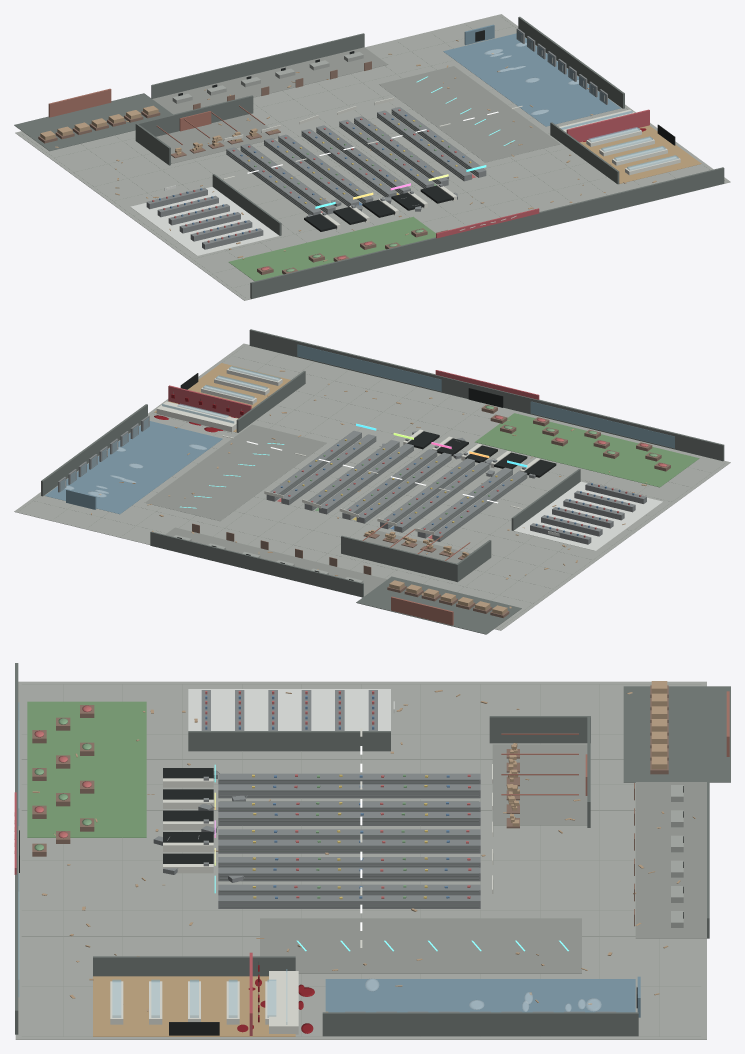
Rendered from level_02_preco_baixo_walmart.glb.
The picture shows the model from 3 angles, top to bottom: view 1: azimuth 30°, elevation 25°; view 2: azimuth 150°, elevation 25°; view 3: azimuth 270°, elevation 25°; orthographic projection. The views are drawn at different scales.
Parts seen in each view (by area): view 1: expanded_market_floor, front_storefront_frame, wide_empty_service_lane_to_freezers, freezer_department_floor_bluecast, produce_department_green_floor, employee_office_corridor_floor, rear_loading_dock_floor, employee_office_back_wall, west_pharmacy_floor, almoxarifado_stockroom_floor, east_bakery_floor, freezer_back_wall (+23 smaller); view 2: expanded_market_floor, wide_empty_service_lane_to_freezers, front_storefront_frame, freezer_department_floor_bluecast, produce_department_green_floor, employee_office_back_wall, west_pharmacy_floor, rear_loading_dock_floor, stockroom_back_wall, employee_office_corridor_floor, front_store_glass_left, front_store_glass_right (+25 smaller); view 3: expanded_market_floor, wide_empty_service_lane_to_freezers, produce_department_green_floor, freezer_department_floor_bluecast, employee_office_corridor_floor, rear_loading_dock_floor, freezer_back_wall, east_bakery_floor, almoxarifado_stockroom_floor, west_pharmacy_floor, west_pharmacy_partition, east_bakery_partition (+21 smaller).
Part boxes in pixels (left/top/right/bottom): expanded_market_floor: left=15, top=14, right=730, bottom=300; front_storefront_frame: left=250, top=167, right=724, bottom=298; wide_empty_service_lane_to_freezers: left=379, top=66, right=560, bottom=162; freezer_department_floor_bluecast: left=443, top=33, right=620, bottom=126; produce_department_green_floor: left=228, top=216, right=435, bottom=281; employee_office_corridor_floor: left=152, top=47, right=388, bottom=114; rear_loading_dock_floor: left=14, top=93, right=172, bottom=151; employee_office_back_wall: left=151, top=33, right=364, bottom=98; west_pharmacy_floor: left=130, top=186, right=279, bottom=255; almoxarifado_stockroom_floor: left=156, top=114, right=279, bottom=163; east_bakery_floor: left=580, top=125, right=701, bottom=183; freezer_back_wall: left=518, top=16, right=624, bottom=108; expanded_market_floor: left=14, top=343, right=730, bottom=630; wide_empty_service_lane_to_freezers: left=145, top=424, right=326, bottom=521; front_storefront_frame: left=249, top=329, right=724, bottom=461; freezer_department_floor_bluecast: left=45, top=421, right=222, bottom=514; produce_department_green_floor: left=475, top=413, right=699, bottom=487; employee_office_back_wall: left=150, top=531, right=363, bottom=597; west_pharmacy_floor: left=514, top=481, right=662, bottom=550; rear_loading_dock_floor: left=356, top=576, right=521, bottom=634; stockroom_back_wall: left=341, top=535, right=458, bottom=581; employee_office_corridor_floor: left=165, top=527, right=387, bottom=596; front_store_glass_left: left=530, top=401, right=674, bottom=448; front_store_glass_right: left=297, top=344, right=441, bottom=391; expanded_market_floor: left=15, top=681, right=706, bottom=1039; wide_empty_service_lane_to_freezers: left=260, top=918, right=581, bottom=973; produce_department_green_floor: left=27, top=701, right=146, bottom=837; freezer_department_floor_bluecast: left=325, top=979, right=635, bottom=1012; employee_office_corridor_floor: left=635, top=782, right=706, bottom=938; rear_loading_dock_floor: left=623, top=686, right=730, bottom=782; freezer_back_wall: left=322, top=1012, right=638, bottom=1036; east_bakery_floor: left=93, top=976, right=295, bottom=1036; almoxarifado_stockroom_floor: left=492, top=744, right=587, bottom=825; west_pharmacy_floor: left=188, top=689, right=390, bottom=730; west_pharmacy_partition: left=188, top=731, right=390, bottom=751; east_bakery_partition: left=93, top=956, right=295, bottom=976.
Size of the model in its own units: 142 by 5.73 by 120.
